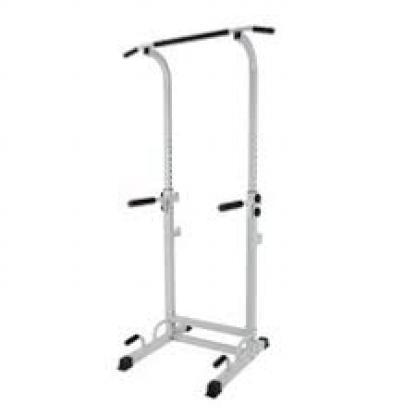chinning dipping: (117, 25, 277, 398)
